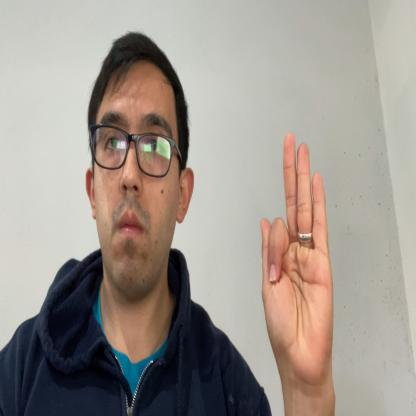F: (260, 133, 334, 381)
